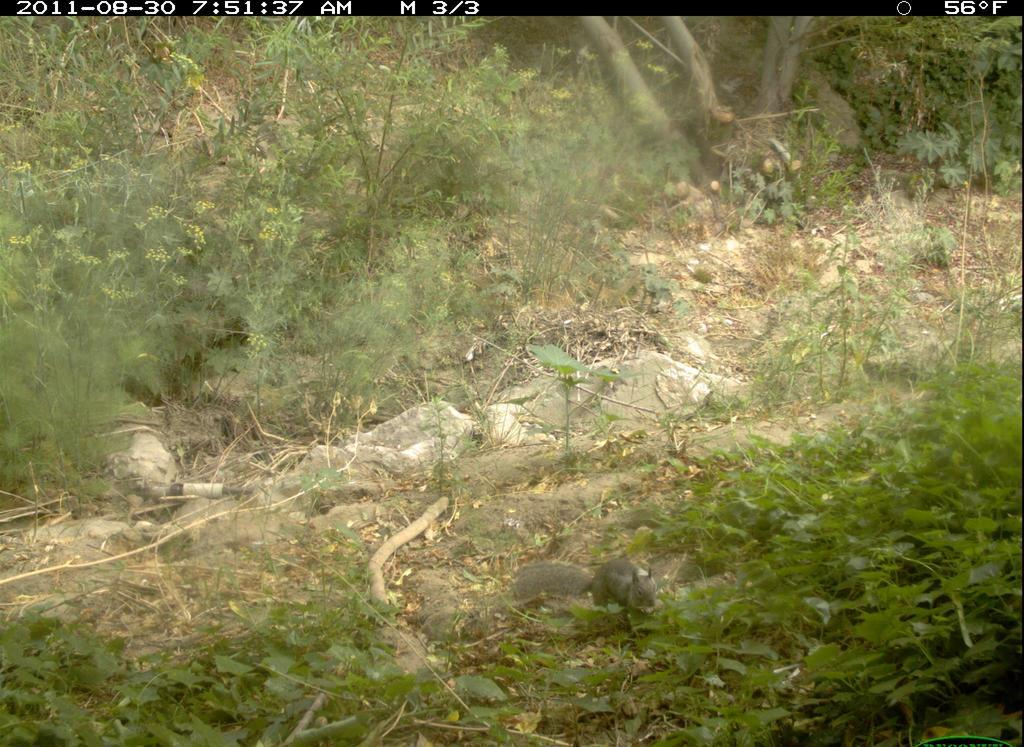squirrel: (513, 547, 669, 620)
